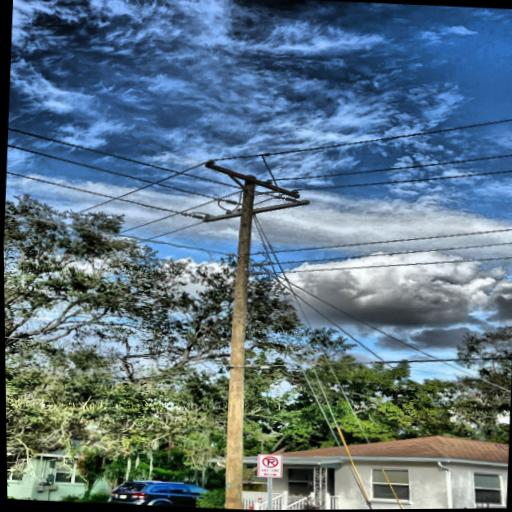pole: (221, 174, 269, 510)
